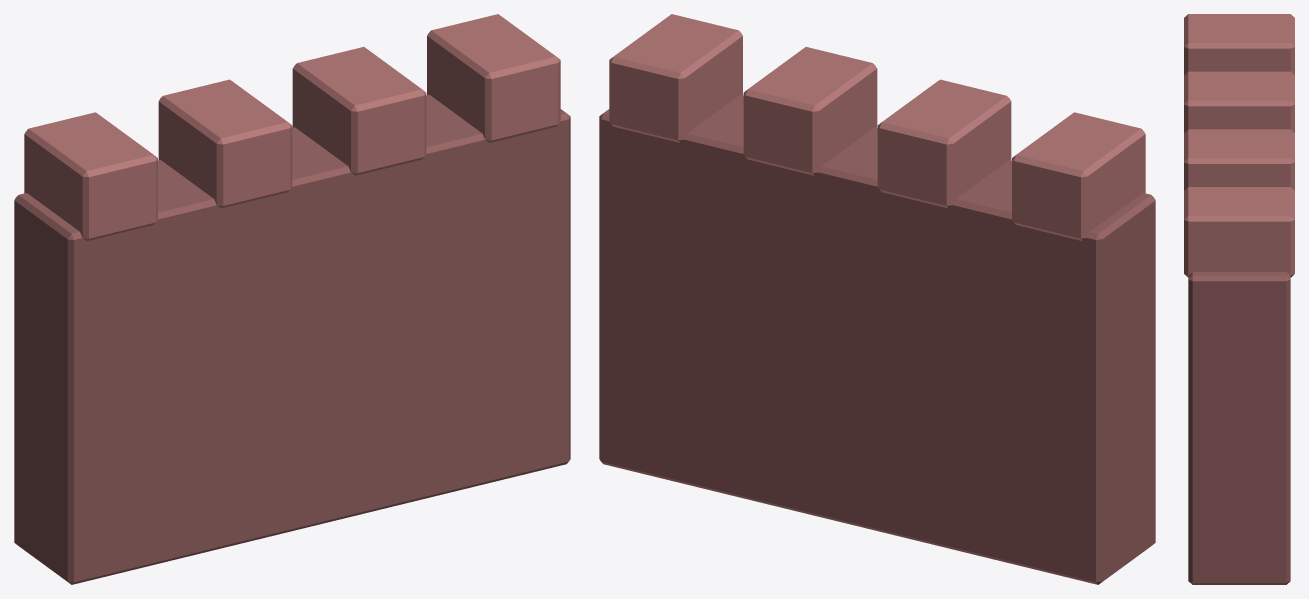
The model's file is SH10_L08_ArenaWall.fbx.
The picture shows the model from 3 angles, left to right: view 1: azimuth 30°, elevation 25°; view 2: azimuth 150°, elevation 25°; view 3: azimuth 270°, elevation 25°; orthographic projection. The views are drawn at different scales.
Visible parts, largest first — view 1: SH10_L08_ArenaWall; view 2: SH10_L08_ArenaWall; view 3: SH10_L08_ArenaWall.
Part boxes in pixels (left/top/right/bottom): SH10_L08_ArenaWall: left=14, top=14, right=570, bottom=584; SH10_L08_ArenaWall: left=599, top=14, right=1155, bottom=584; SH10_L08_ArenaWall: left=1184, top=14, right=1294, bottom=584.
Bounding box in the file's own units: 300 × 235 × 65.
